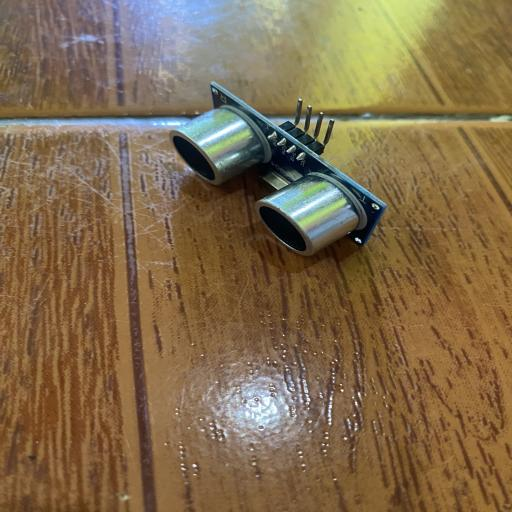Ultrasonic Sensor: (167, 78, 389, 257)
